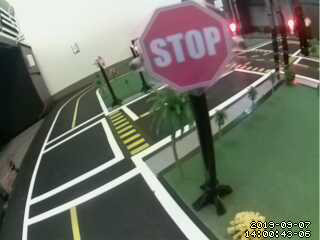Stop_Sign: (129, 1, 238, 91)
